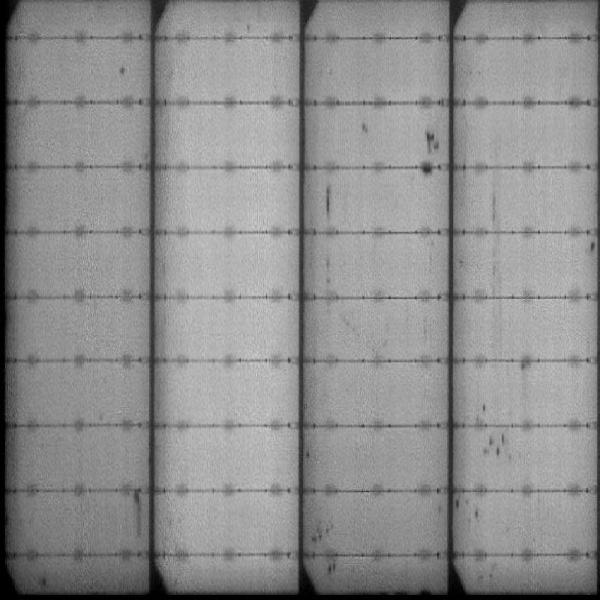scratch: (309, 513, 347, 577), (415, 131, 442, 177), (477, 432, 509, 468), (456, 498, 483, 523), (131, 485, 142, 537), (325, 182, 332, 227)
